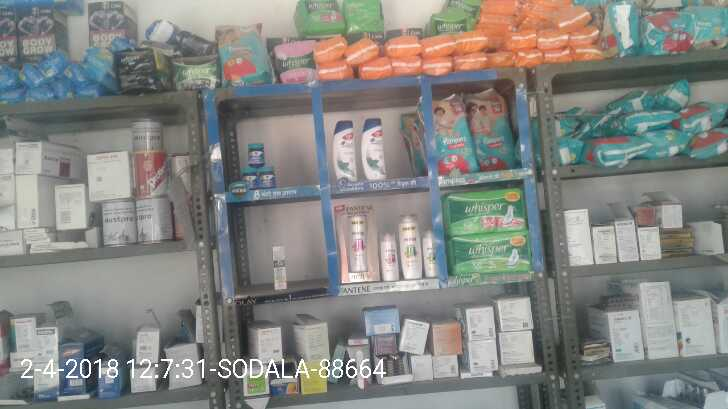vicks: (242, 140, 275, 187)
